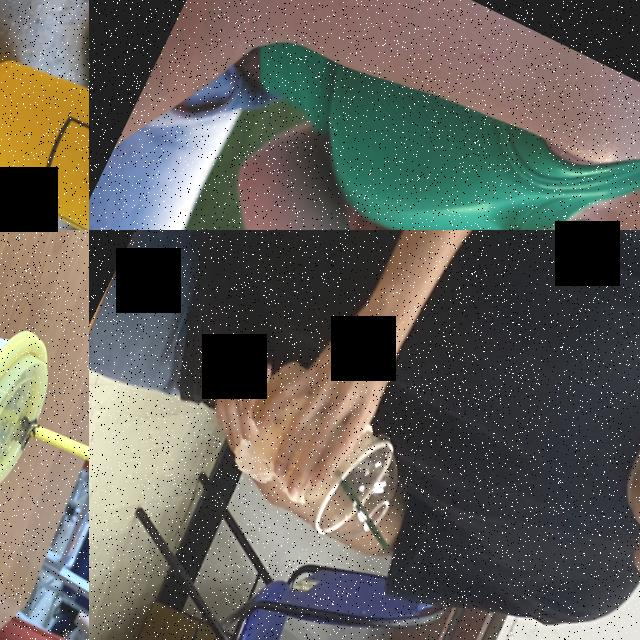cup: (214, 352, 426, 556), (0, 255, 80, 528), (0, 17, 89, 230), (0, 178, 89, 230)
